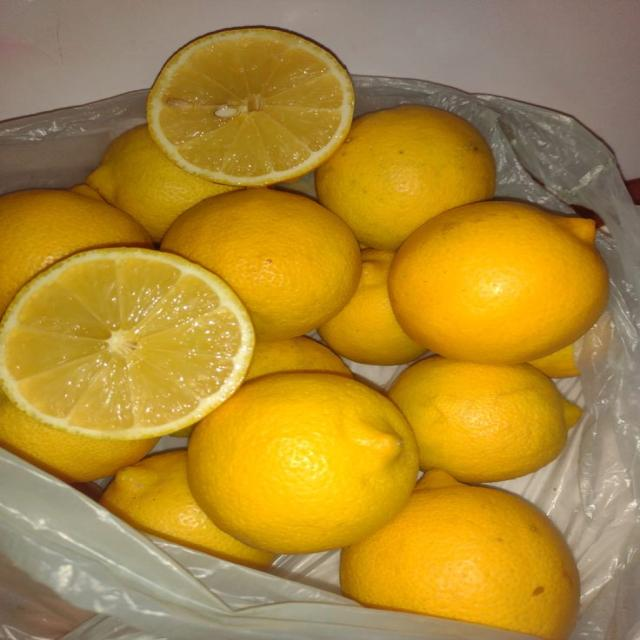lemon: (0, 248, 253, 439), (188, 372, 417, 553), (340, 470, 579, 639), (389, 201, 608, 363), (147, 28, 353, 186), (161, 188, 360, 340), (315, 104, 495, 250), (388, 357, 580, 482), (100, 450, 275, 568), (0, 190, 152, 313), (87, 125, 236, 243), (0, 393, 158, 482), (318, 248, 426, 365), (246, 336, 353, 380)
